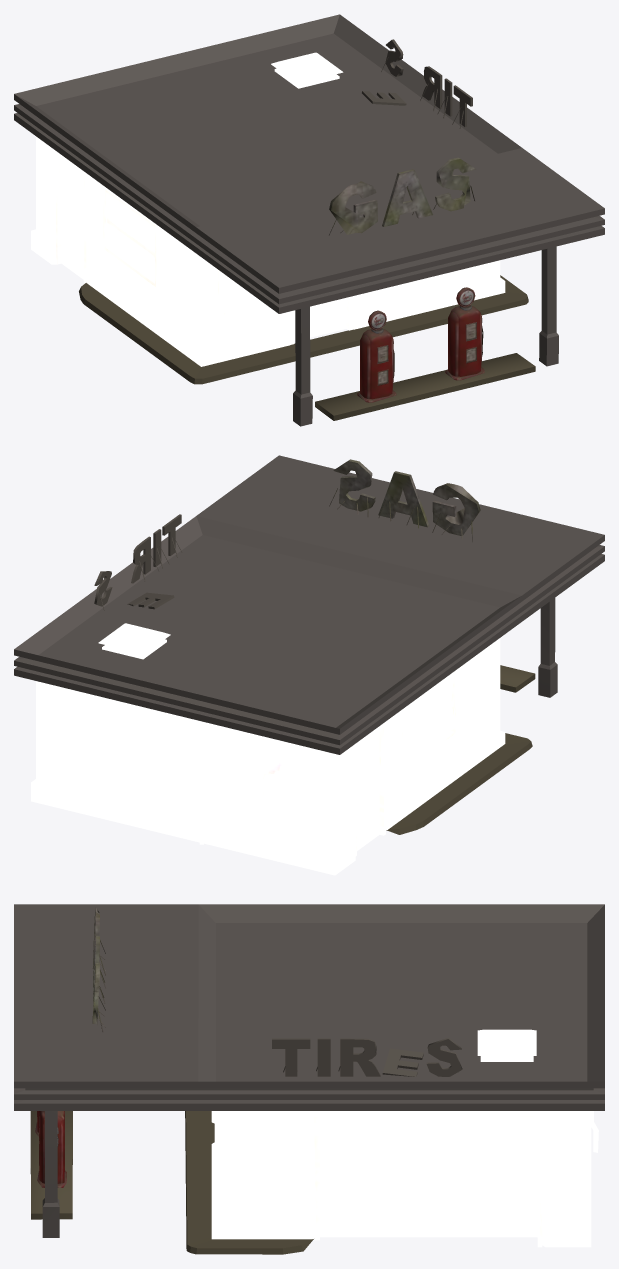
The model's file is roadside-gas.lod1.glb.
The picture shows the model from 3 angles, top to bottom: view 1: azimuth 30°, elevation 25°; view 2: azimuth 150°, elevation 25°; view 3: azimuth 270°, elevation 25°; orthographic projection. The views are drawn at different scales.
Visible parts, largest first — view 1: Brick_A:Brick_Single_Geo_Single_Brick_0, Gas_Station_Model:Gas_Station_Body_main_shader_0, Gas_Station_Model:polySurface3_Building_Extra_Shader_0, GAS_Sign:Supports_GAS_SIgn_0, Gas_Pump:Body_Geo_Pump_Main_Shader_0, Gas_Pump:Pump_Top_Sign_Geo_pump_misc_shader_0; view 2: Brick_A:Brick_Single_Geo_Single_Brick_0, Gas_Station_Model:Gas_Station_Body_main_shader_0, Gas_Station_Model:polySurface3_Building_Extra_Shader_0, GAS_Sign:Supports_GAS_SIgn_0; view 3: Brick_A:Brick_Single_Geo_Single_Brick_0, Gas_Station_Model:polySurface3_Building_Extra_Shader_0, Gas_Station_Model:Gas_Station_Body_main_shader_0, Gas_Pump:Body_Geo_Pump_Main_Shader_0, GAS_Sign:Supports_GAS_SIgn_0.
Boxes of the visible parts, <box> form: Brick_A:Brick_Single_Geo_Single_Brick_0: <box>14,14,604,426</box>; Gas_Station_Model:Gas_Station_Body_main_shader_0: <box>31,136,505,366</box>; Gas_Station_Model:polySurface3_Building_Extra_Shader_0: <box>57,52,346,341</box>; GAS_Sign:Supports_GAS_SIgn_0: <box>329,157,475,235</box>; Gas_Pump:Body_Geo_Pump_Main_Shader_0: <box>357,306,484,402</box>; Gas_Pump:Pump_Top_Sign_Geo_pump_misc_shader_0: <box>368,287,483,377</box>; Brick_A:Brick_Single_Geo_Single_Brick_0: <box>14,455,604,834</box>; Gas_Station_Model:Gas_Station_Body_main_shader_0: <box>31,638,505,875</box>; Gas_Station_Model:polySurface3_Building_Extra_Shader_0: <box>98,623,383,850</box>; GAS_Sign:Supports_GAS_SIgn_0: <box>329,459,480,542</box>; Brick_A:Brick_Single_Geo_Single_Brick_0: <box>14,904,604,1254</box>; Gas_Station_Model:polySurface3_Building_Extra_Shader_0: <box>320,1029,598,1237</box>; Gas_Station_Model:Gas_Station_Body_main_shader_0: <box>211,1111,591,1247</box>; Gas_Pump:Body_Geo_Pump_Main_Shader_0: <box>35,1111,66,1187</box>; GAS_Sign:Supports_GAS_SIgn_0: <box>92,907,105,1032</box>.
Bounding box in the file's own units: 12.84 × 7.47 × 17.41.
6 materials, 5 textured.
